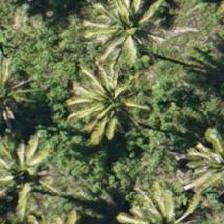coconut_tree: (53, 56, 143, 146), (73, 0, 163, 72), (0, 131, 65, 221), (101, 170, 191, 223), (172, 113, 223, 203)
